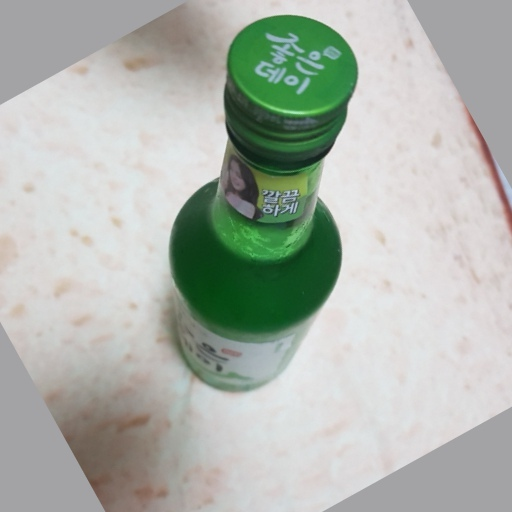Glass_0: (162, 12, 366, 399)
